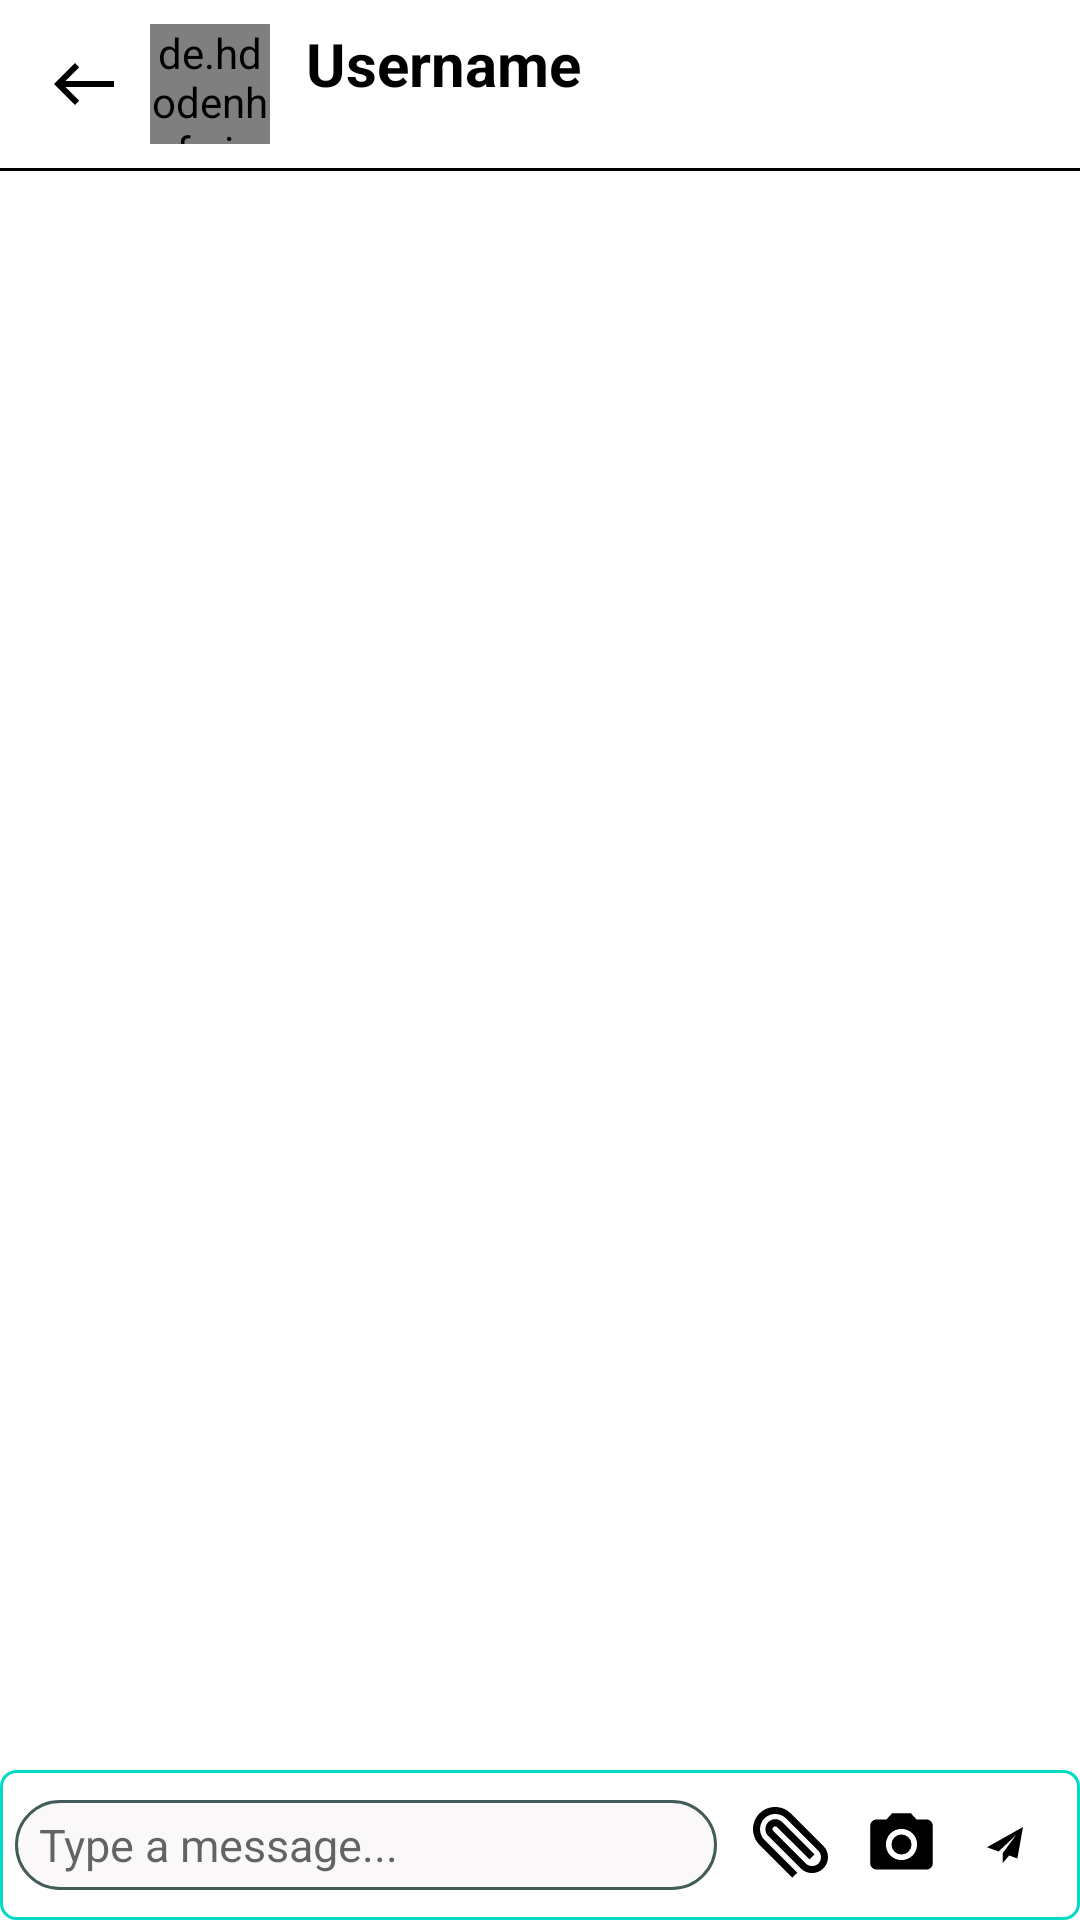

Named icons in this screenshot (1080 × 1920) and their centers, point (x, y):
attachment: point (790, 1842)
photograph: point (901, 1841)
west: point (84, 84)
